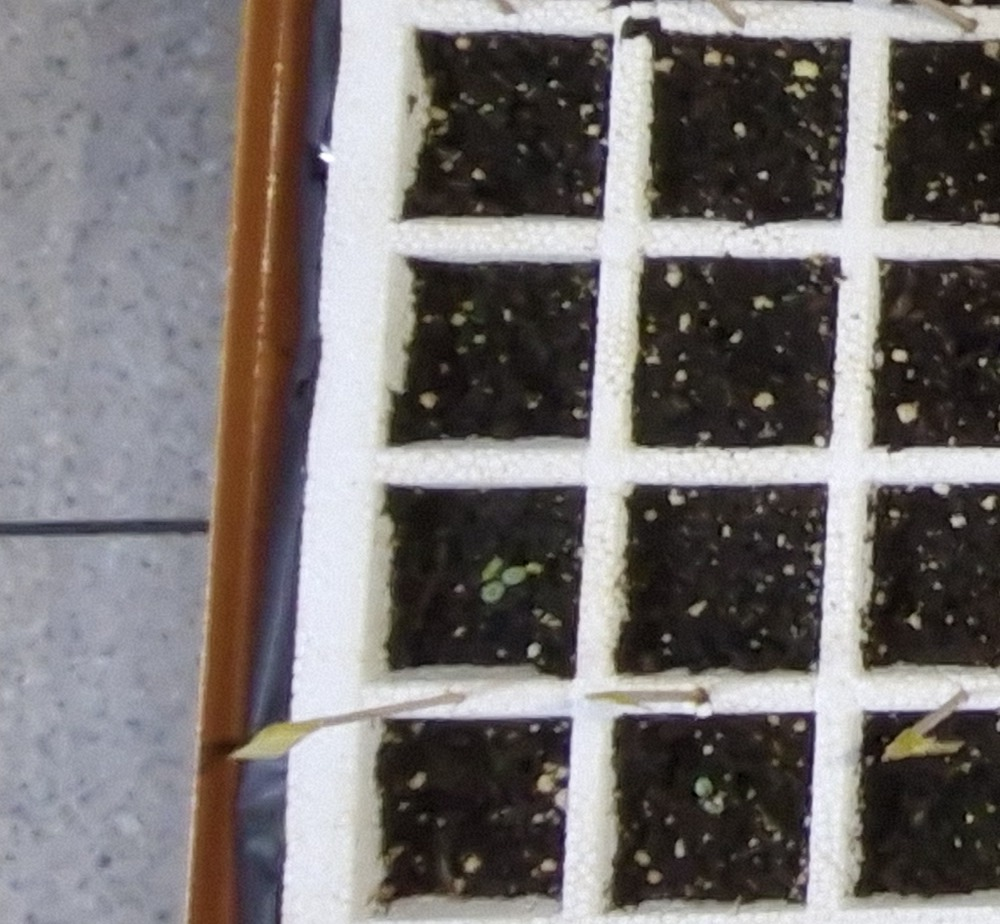Folha: (482, 580, 504, 601), (482, 558, 502, 579), (503, 566, 526, 584), (704, 795, 724, 815), (696, 778, 713, 796)
Germinacao: (481, 557, 529, 605), (696, 779, 725, 814)
